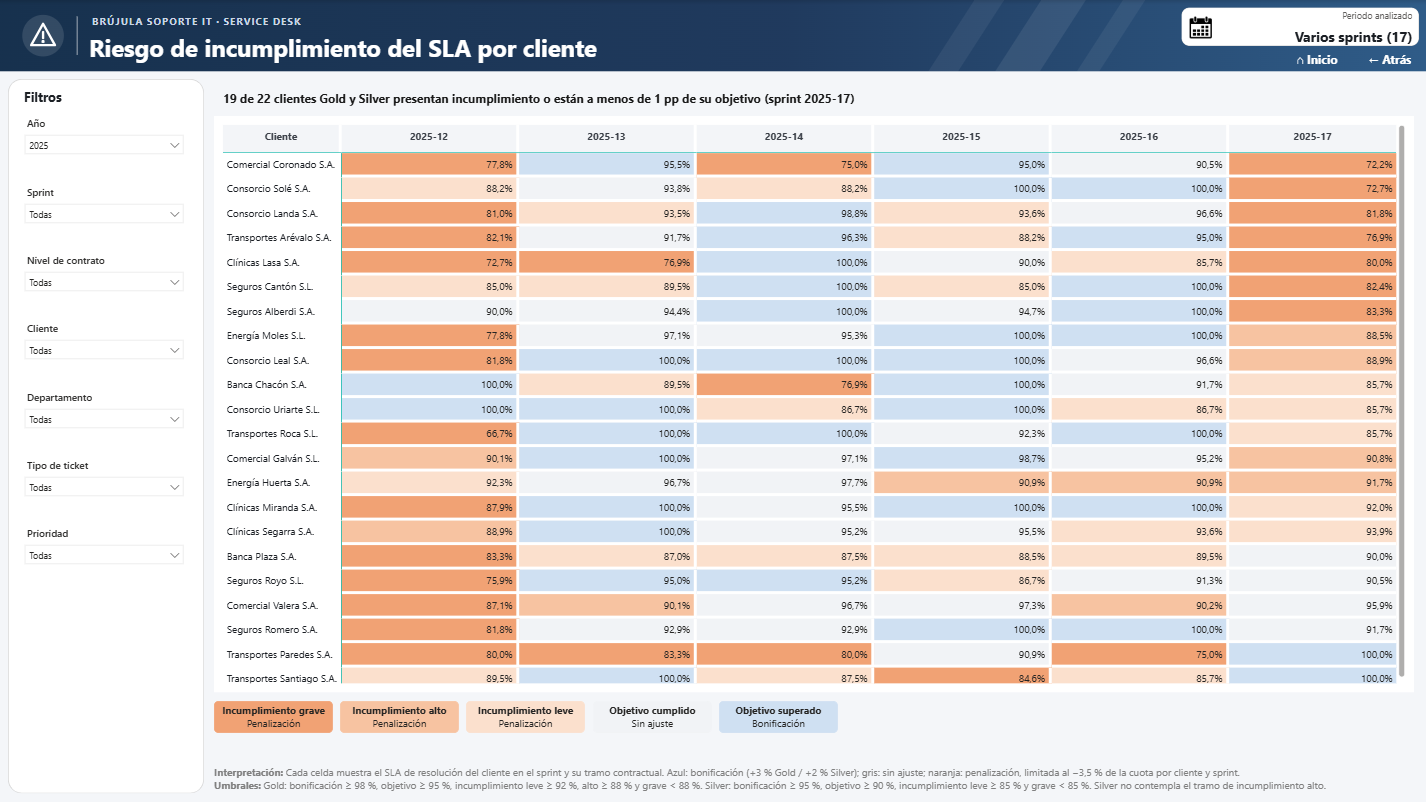

This screenshot's page, from the dashboard's own definition file:
{"tool":"powerbi","page":{"name":"Riesgo por cliente","canvas":[1920,1080],"ordinal":6},"visuals":[{"type":"cardVisual","fields":{"Data":["Medidas.Periodo seleccionado"]},"box":[1580.9,0,340,72],"z":0},{"type":"shape","box":[10.9,106,263.9,962],"z":1000},{"type":"textbox","box":[32,118,216,32],"z":2000},{"type":"slicer","fields":{"Values":["Sprint.Año"]},"box":[28,158,224,80],"z":3000},{"type":"slicer","fields":{"Values":["Sprint.Sprint"]},"box":[28,250,224,80],"z":4000},{"type":"slicer","fields":{"Values":["Cliente.Nivel de contrato"]},"box":[28,342,224,80],"z":5000},{"type":"slicer","fields":{"Values":["Cliente.Cliente"]},"box":[28,434,224,80],"z":6000},{"type":"slicer","fields":{"Values":["Departamento.Departamento"]},"box":[28,526,224,80],"z":7000},{"type":"slicer","fields":{"Values":["Política SLA.Tipo"]},"box":[28,618,224,80],"z":8000},{"type":"slicer","fields":{"Values":["Política SLA.Prioridad"]},"box":[28,710,224,80],"z":9000},{"type":"cardVisual","fields":{"Data":["Medidas.Título riesgo clientes"]},"box":[288.2,106.4,1535.2,43.1],"z":10000},{"type":"pivotTable","fields":{"Columns":["Sprint.Sprint"],"Rows":["Cliente.Cliente","Cliente.Nivel de contrato","Cliente.Objetivo contractual"],"Values":["Medidas.% SLA celda riesgo"]},"box":[288,156,1616,776],"z":11000},{"type":"textbox","box":[288.2,944,160.2,43.1],"z":12000},{"type":"textbox","box":[458,944,160,43],"z":13000},{"type":"textbox","box":[628,944,160,43],"z":14000},{"type":"textbox","box":[798,944,160,43],"z":15000},{"type":"textbox","box":[968,944,160,43],"z":16000},{"type":"textbox","box":[288,1032,1616,36],"z":17000},{"type":"textbox","box":[120,42,1000,44],"z":18000},{"type":"actionButton","box":[1823.3,56.6,97,44.4],"z":20000},{"type":"actionButton","box":[1723.7,56.6,99.7,44.4],"z":21000}]}

Visuals, with their boxes in screenshot pixels (x1, y1, x2, y2), scaled from the page's 1920x1080 canvas onto the 1426x802 screenshot:
cardVisual - Medidas.Periodo seleccionado: <box>1174,0,1425,53</box>
shape: <box>8,79,204,793</box>
textbox: <box>24,88,184,111</box>
slicer - Sprint.Año: <box>21,117,187,177</box>
slicer - Sprint.Sprint: <box>21,186,187,245</box>
slicer - Cliente.Nivel de contrato: <box>21,254,187,313</box>
slicer - Cliente.Cliente: <box>21,322,187,382</box>
slicer - Departamento.Departamento: <box>21,391,187,450</box>
slicer - Política SLA.Tipo: <box>21,459,187,518</box>
slicer - Política SLA.Prioridad: <box>21,527,187,587</box>
cardVisual - Medidas.Título riesgo clientes: <box>214,79,1354,111</box>
pivotTable - Sprint.Sprint x Cliente.Cliente: <box>214,116,1414,692</box>
textbox: <box>214,701,333,733</box>
textbox: <box>340,701,459,733</box>
textbox: <box>466,701,585,733</box>
textbox: <box>593,701,712,733</box>
textbox: <box>719,701,838,733</box>
textbox: <box>214,766,1414,793</box>
textbox: <box>89,31,832,64</box>
actionButton: <box>1354,42,1425,75</box>
actionButton: <box>1280,42,1354,75</box>
